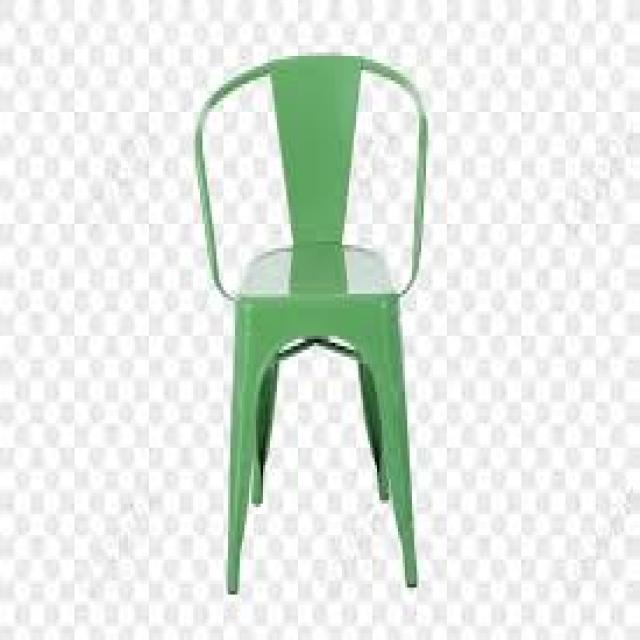chair: (155, 23, 492, 618)
